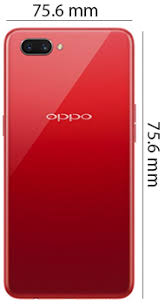oppo: (1, 24, 138, 299)
